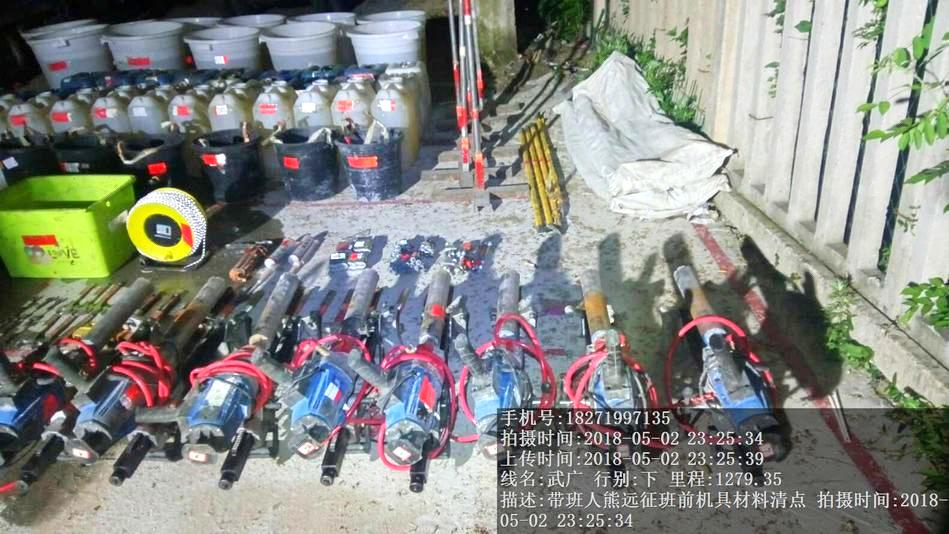GFJ: (647, 264, 807, 462), (172, 274, 302, 474), (359, 258, 457, 476), (299, 260, 366, 459)
T: (1, 177, 139, 278)
